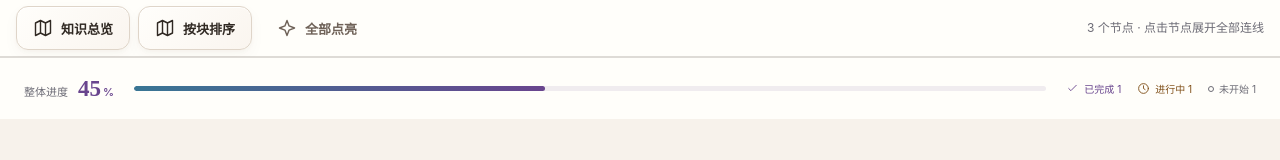
Scenario: reports an already committed batch honestly when cancellation arrives after the save
Click the button "全部点亮" at (317, 28), box [260,6,374,50]
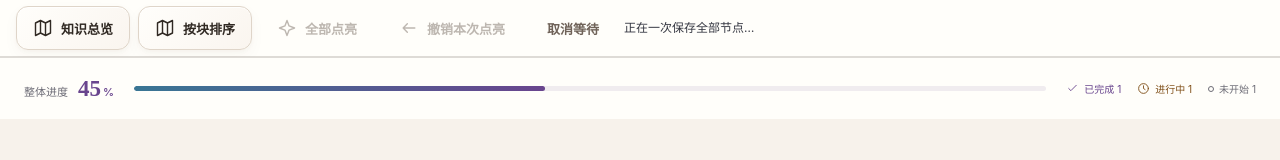
Click the button "取消等待" at (573, 28), box [530,6,616,50]
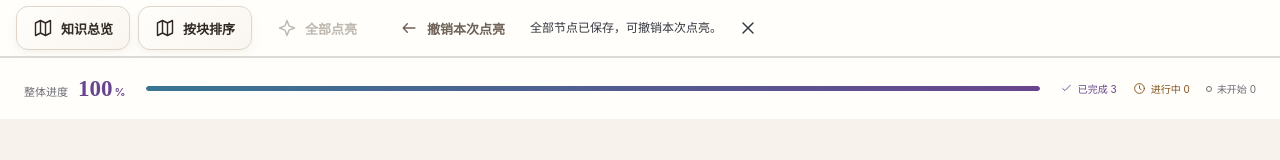
Now the text "全部节点已保存，可撤销本次点亮。" is shown, box [530,19,722,37]
Now the button "撤销本次点亮" is enabled, box [382,6,522,50]
